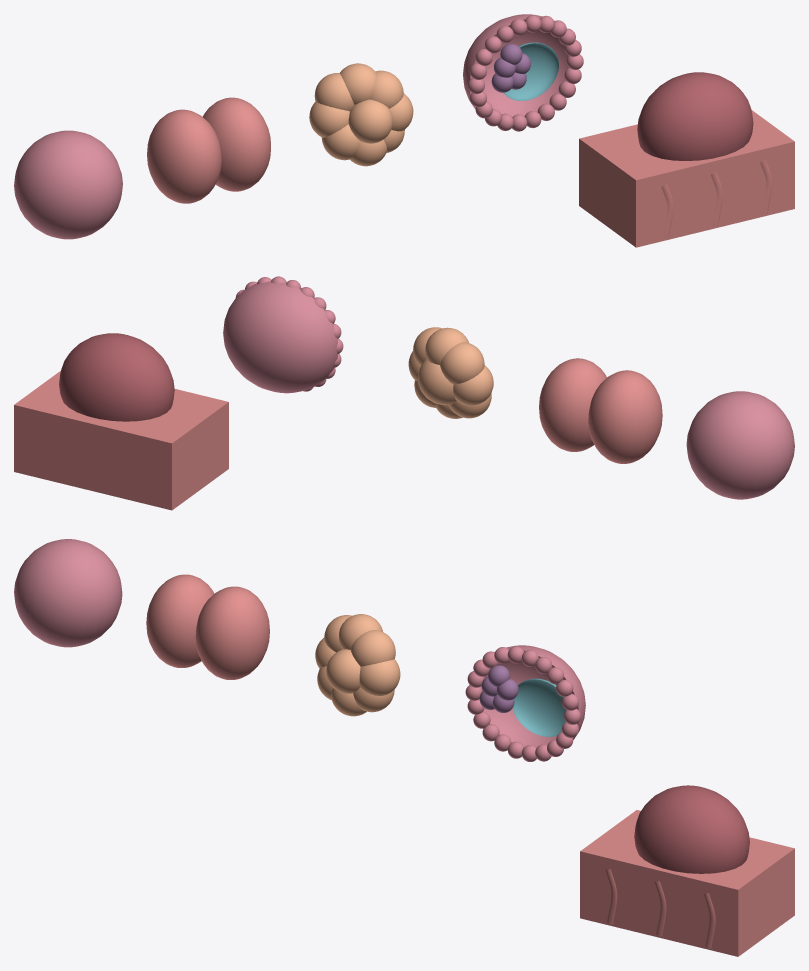
File: cleavage-implantation.glb
3 renders of one model, top to bottom at view 1: azimuth 30°, elevation 25°; view 2: azimuth 150°, elevation 25°; view 3: azimuth 330°, elevation 25°, orthographic.
Parts seen in each view (by area): view 1: endometrium, two_cell_stage, zygote, implanting_blastocyst, trophoblast, morula, blastocoel, inner_cell_mass; view 2: endometrium, trophoblast, two_cell_stage, zygote, implanting_blastocyst, morula; view 3: endometrium, two_cell_stage, zygote, implanting_blastocyst, trophoblast, morula, blastocoel, inner_cell_mass.
Boxes of the visible parts, x1,y1,x2,y2 form: endometrium: (579,110,794,247); two_cell_stage: (147,97,270,203); zygote: (14,130,122,239); implanting_blastocyst: (637,72,753,160); trophoblast: (463,14,583,131); morula: (309,63,413,166); blastocoel: (503,42,558,100); inner_cell_mass: (491,43,530,92); endometrium: (14,371,228,510); trophoblast: (223,276,343,393); two_cell_stage: (539,358,662,463); zygote: (686,391,794,499); implanting_blastocyst: (59,333,174,421); morula: (408,327,493,418); endometrium: (580,810,794,956); two_cell_stage: (146,574,269,679); zygote: (14,539,122,647); implanting_blastocyst: (634,785,749,873); trophoblast: (465,645,585,761); morula: (315,614,400,716); blastocoel: (512,678,565,736); inner_cell_mass: (479,665,518,712).
Bounding box in the file's own units: 3.48 × 1.03 × 0.465.
